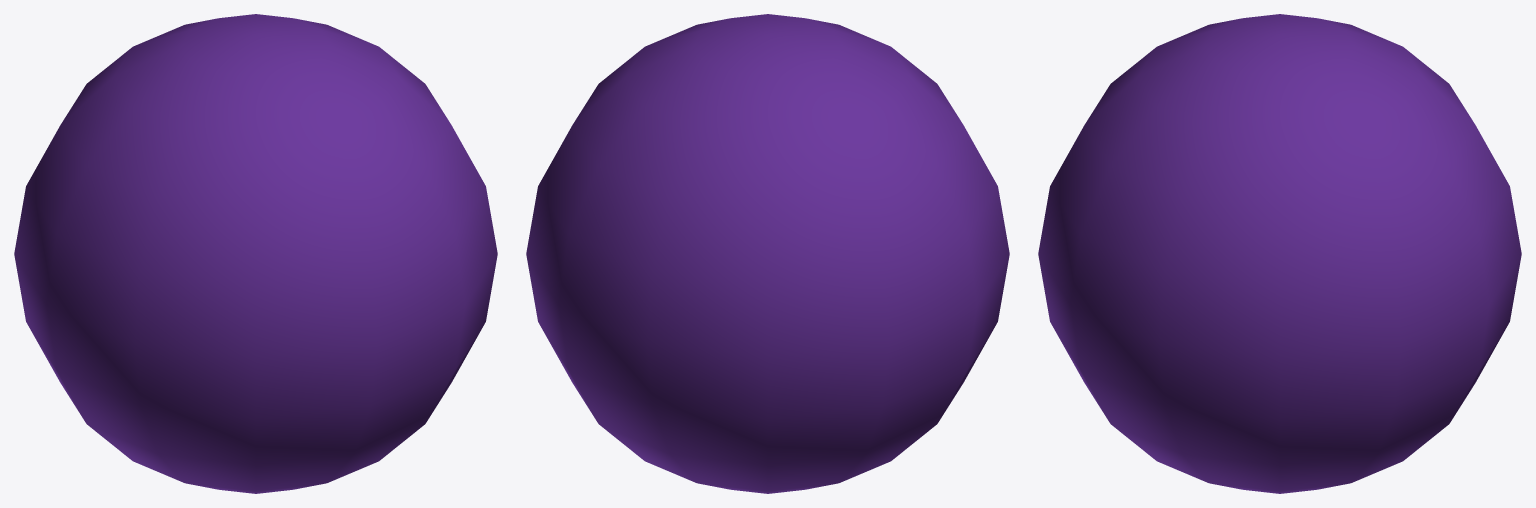
Rendered from runeling_stage2.obj.
3 renders of one model, left to right at view 1: azimuth 30°, elevation 25°; view 2: azimuth 150°, elevation 25°; view 3: azimuth 270°, elevation 25°, orthographic.
Size of the model in its own units: 2 by 2 by 2.
